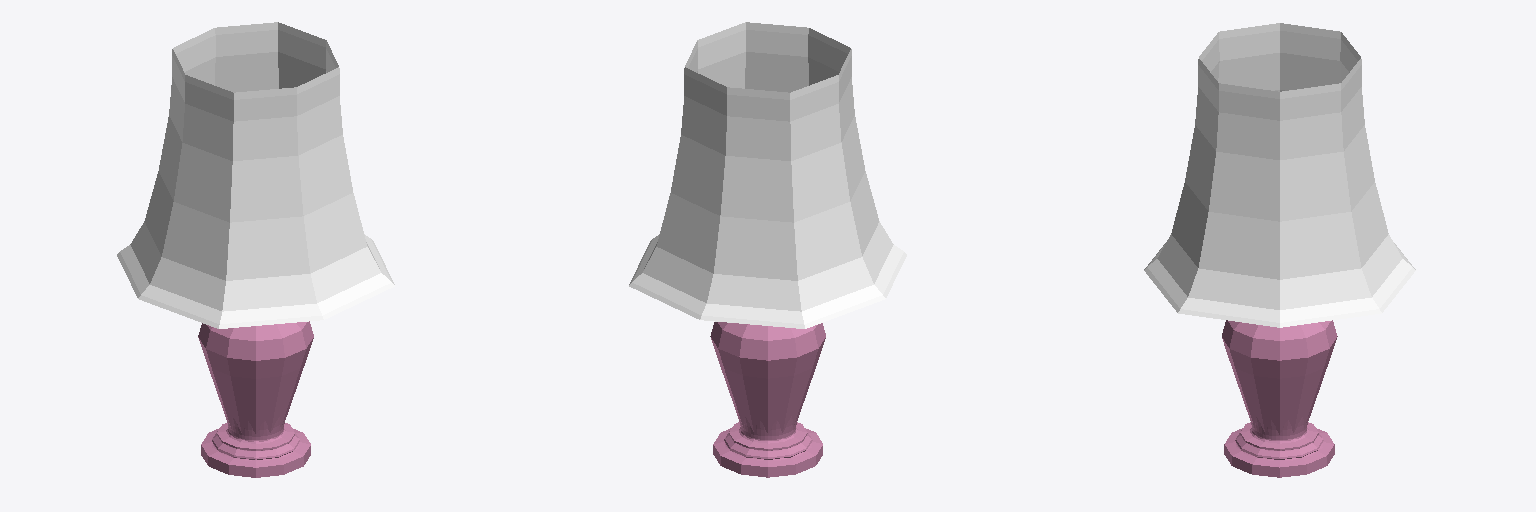
3 renders of one model, left to right at view 1: azimuth 30°, elevation 25°; view 2: azimuth 150°, elevation 25°; view 3: azimuth 270°, elevation 25°, orthographic.
Visible parts, largest first — view 1: polySurface1; view 2: polySurface1; view 3: polySurface1.
Boxes of the visible parts, x1,y1,x2,y2 form: polySurface1: [117, 22, 394, 477]; polySurface1: [629, 22, 906, 477]; polySurface1: [1144, 23, 1415, 477].
Bounding box in the file's own units: 1.6 × 2.57 × 1.6.
6 materials, 4 textured.